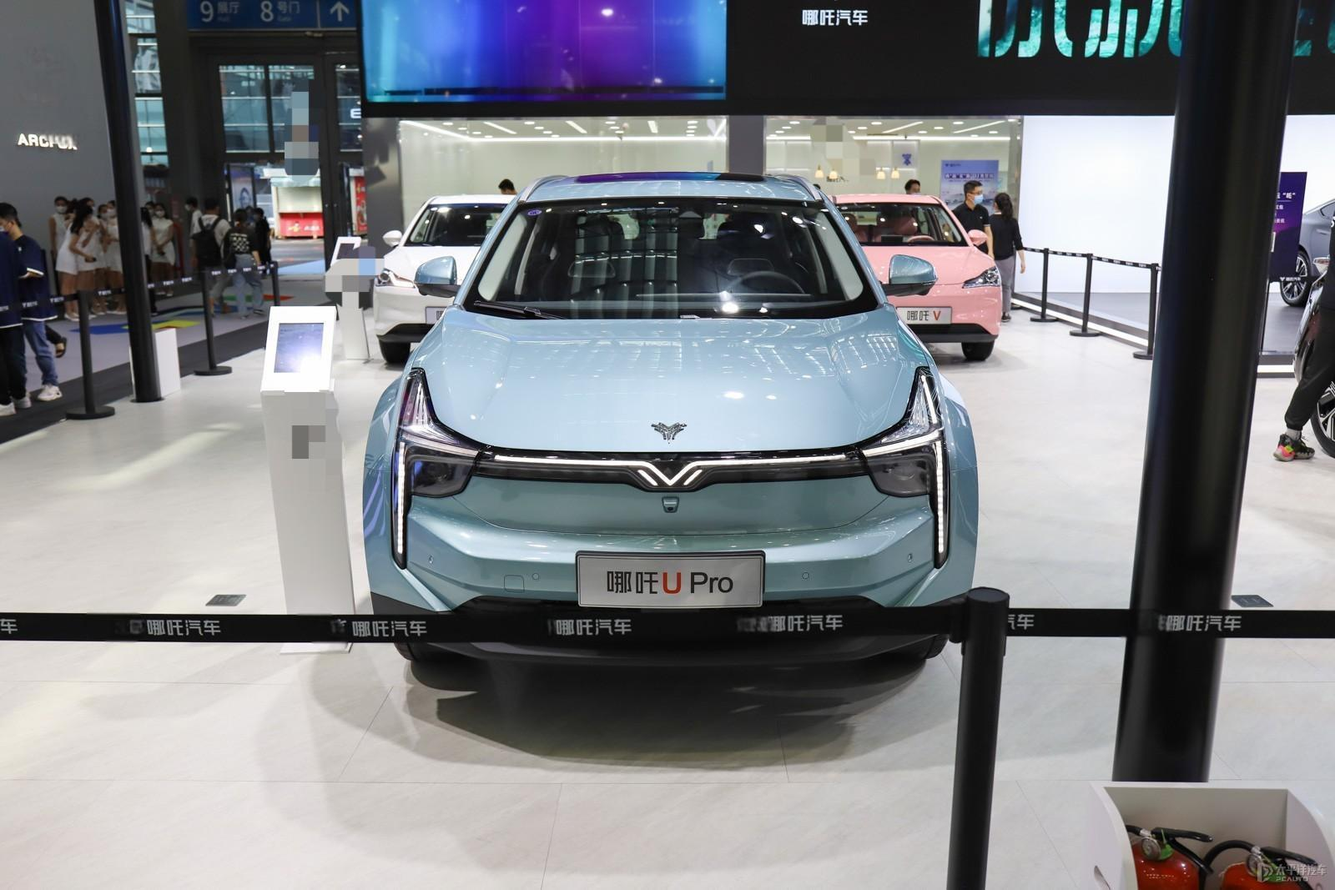NETA: (649, 421, 690, 447)
